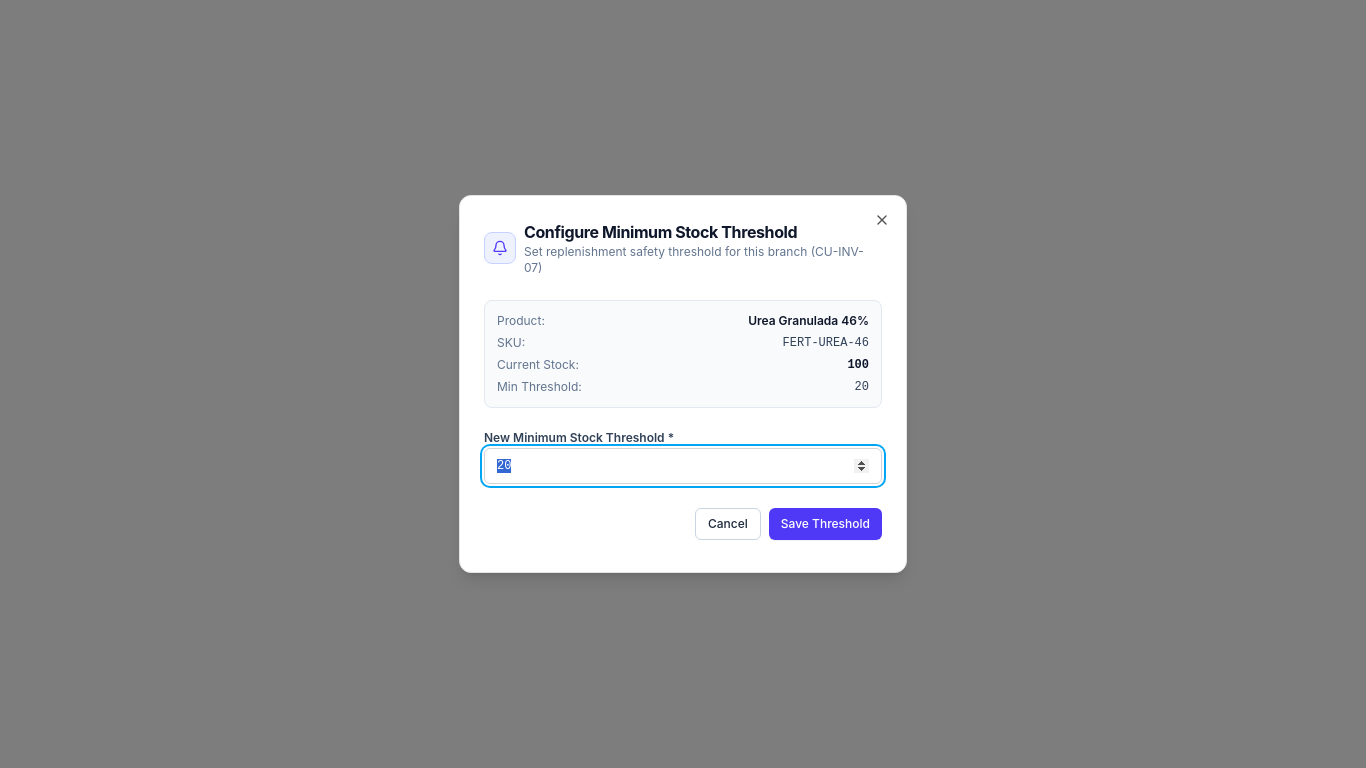
Scenario: Stock Management Component Tests › allows updating safety threshold via ThresholdDialog
Expected: the heading "Configure Minimum Stock Threshold" is shown, x1=524 y1=222 x2=797 y2=242
Replace the text in the number field labelled "New Minimum Stock Threshold *" with "35": (683, 466) x1=484 y1=448 x2=882 y2=484
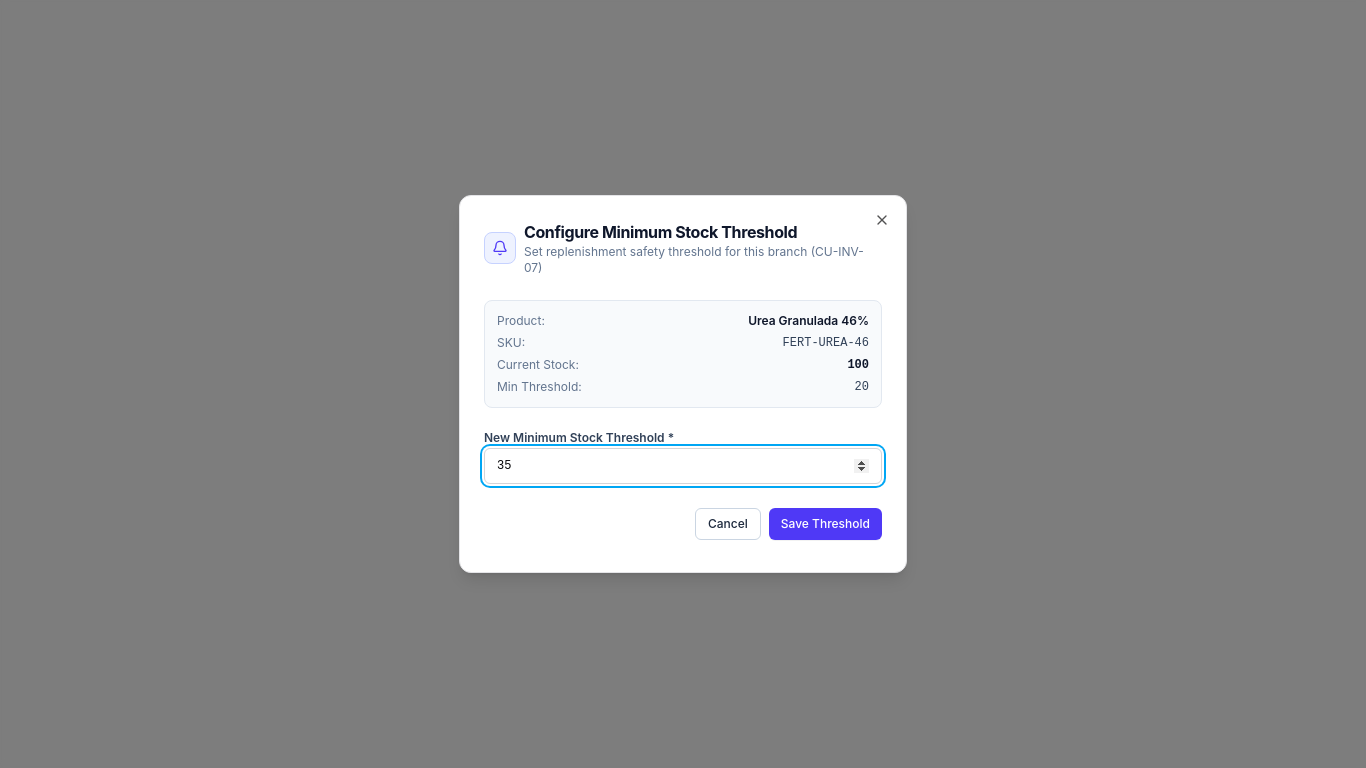
Click the button "Save Threshold": (825, 524) x1=769 y1=508 x2=882 y2=540
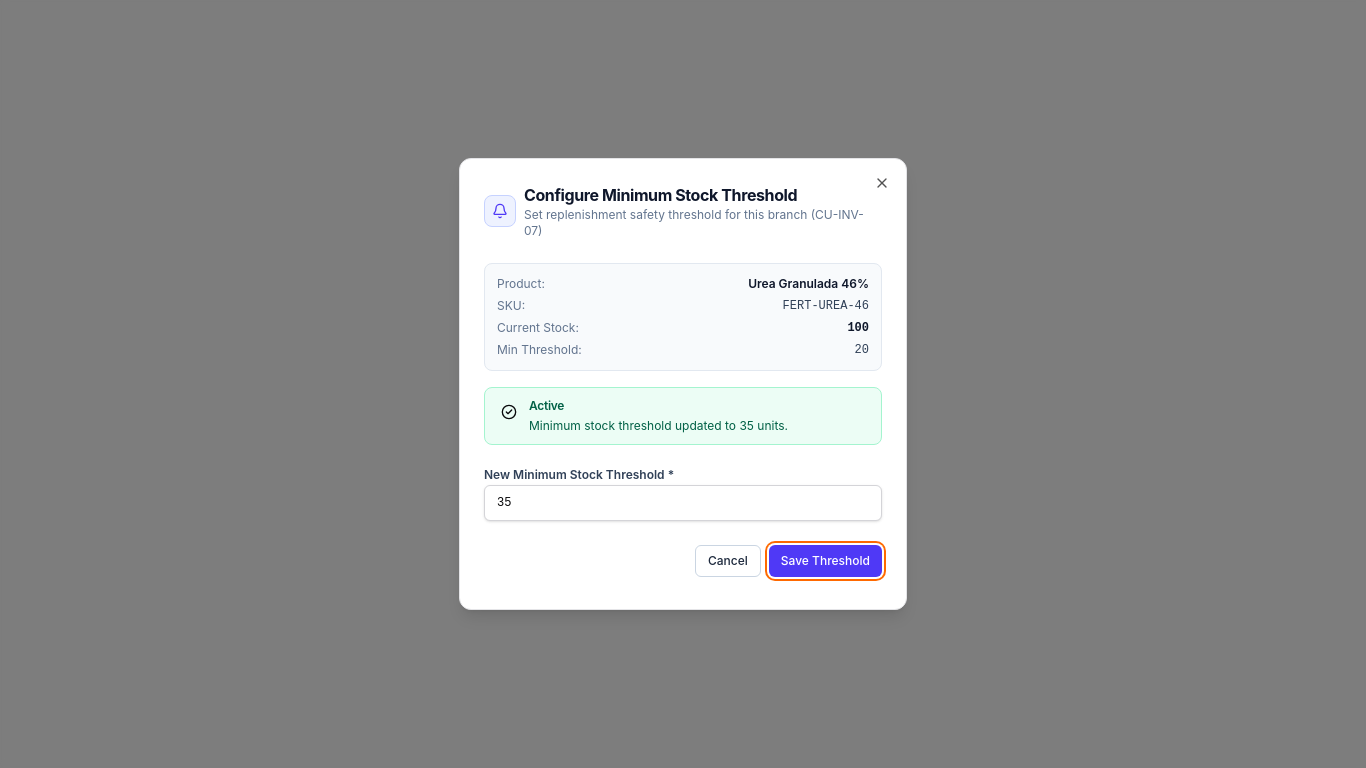
Now the text "Minimum stock threshold updated to 35 units." is shown, box x1=529 y1=418 x2=788 y2=433
